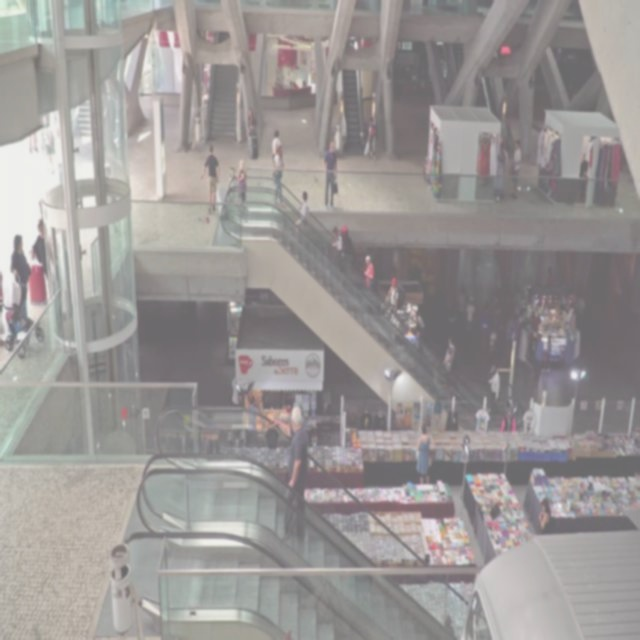pessoa: (268, 403, 310, 541), (458, 280, 518, 347), (520, 276, 582, 334), (102, 92, 120, 231), (9, 232, 32, 319), (42, 110, 66, 186), (199, 142, 220, 216), (30, 216, 50, 283), (322, 138, 339, 212), (406, 250, 439, 284), (492, 138, 508, 202), (294, 190, 310, 250), (264, 417, 280, 475), (234, 158, 249, 218), (508, 137, 522, 200), (417, 422, 430, 486), (486, 363, 500, 421), (386, 276, 406, 314), (274, 144, 286, 206), (533, 332, 545, 384), (363, 115, 376, 161), (442, 333, 456, 375), (340, 226, 356, 262), (396, 400, 420, 424), (227, 374, 242, 410), (538, 497, 552, 535), (270, 128, 282, 170), (363, 253, 375, 288), (331, 224, 344, 256), (544, 332, 553, 376), (246, 106, 258, 138), (274, 78, 306, 90), (0, 270, 5, 346), (248, 394, 262, 416)
